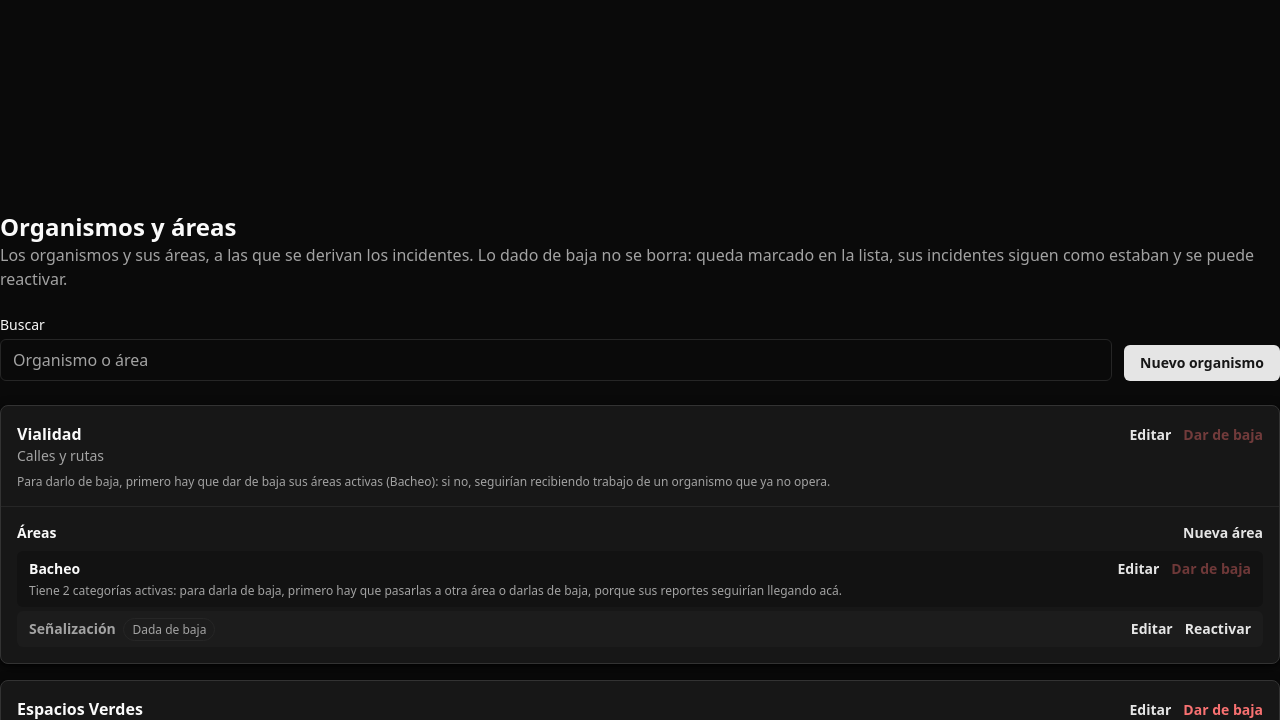
Test: organismos y áreas (F16) › busca por organismo o por área, sin importar mayúsculas ni tildes
(page scrolled)
Type "senaliz" into the search field labelled "Buscar" at x=556, y=360, box top-left (0, 339), bottom-right (1112, 381)
(page scrolled)
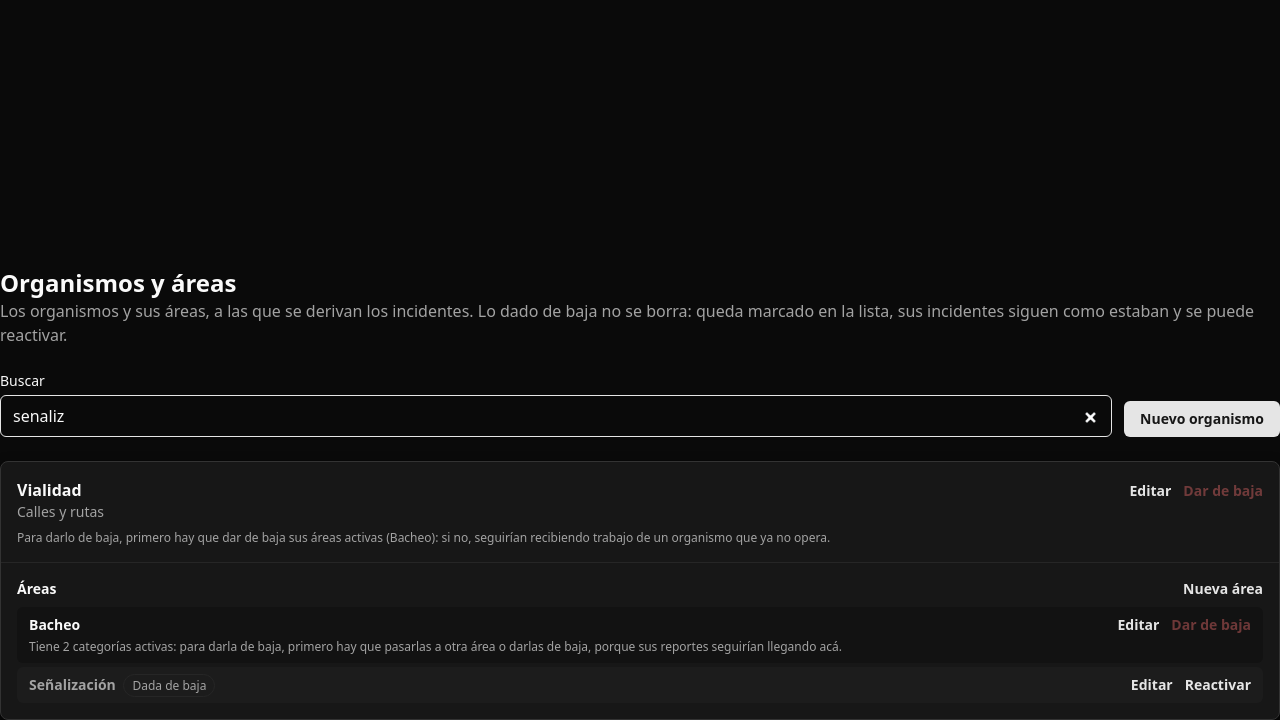
Expected: the list item "Vialidad" is shown, top-left (0, 461), bottom-right (1279, 719)
Now the heading "Espacios Verdes" is gone
Clear the search field labelled "Buscar" at x=556, y=416, box top-left (0, 395), bottom-right (1112, 437)
(page scrolled)
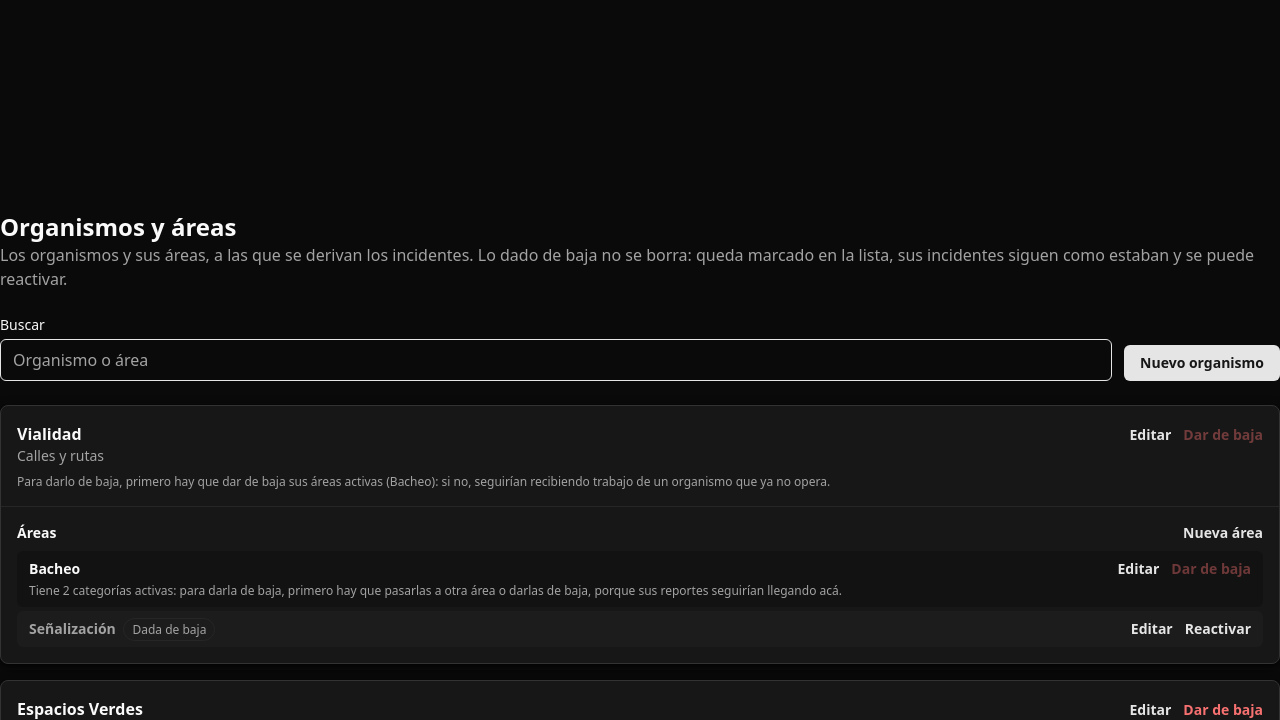
Type "zzz" into the search field labelled "Buscar" at x=556, y=360, box top-left (0, 339), bottom-right (1112, 381)
(page scrolled)
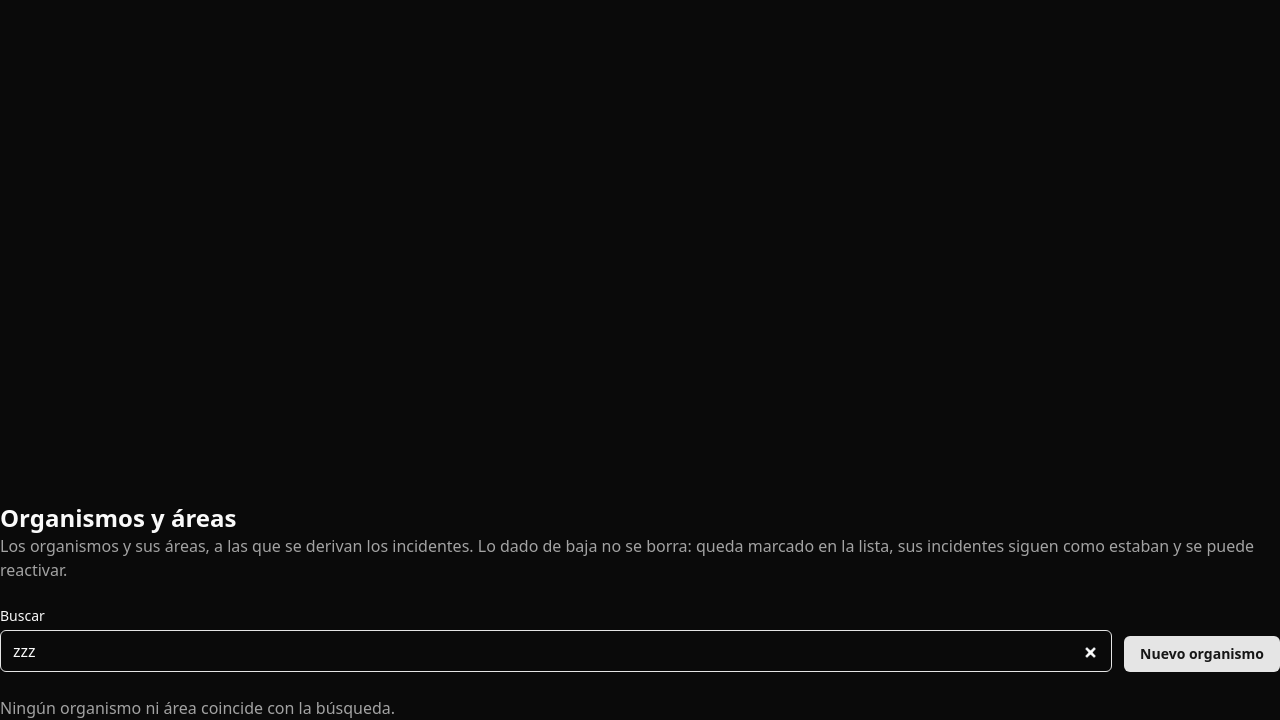
Now the text "Ningún organismo ni área coincide con la búsqueda." is shown, box top-left (0, 697), bottom-right (395, 719)
